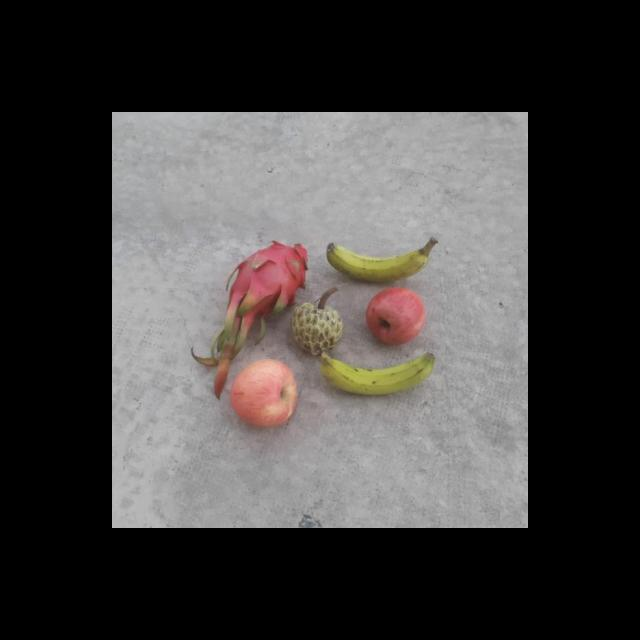Sakya fruit: (288, 302, 346, 354)
apple: (228, 358, 297, 426), (357, 286, 423, 346)
banana: (314, 350, 442, 394), (324, 239, 438, 281)
pitaya: (228, 238, 310, 314)
